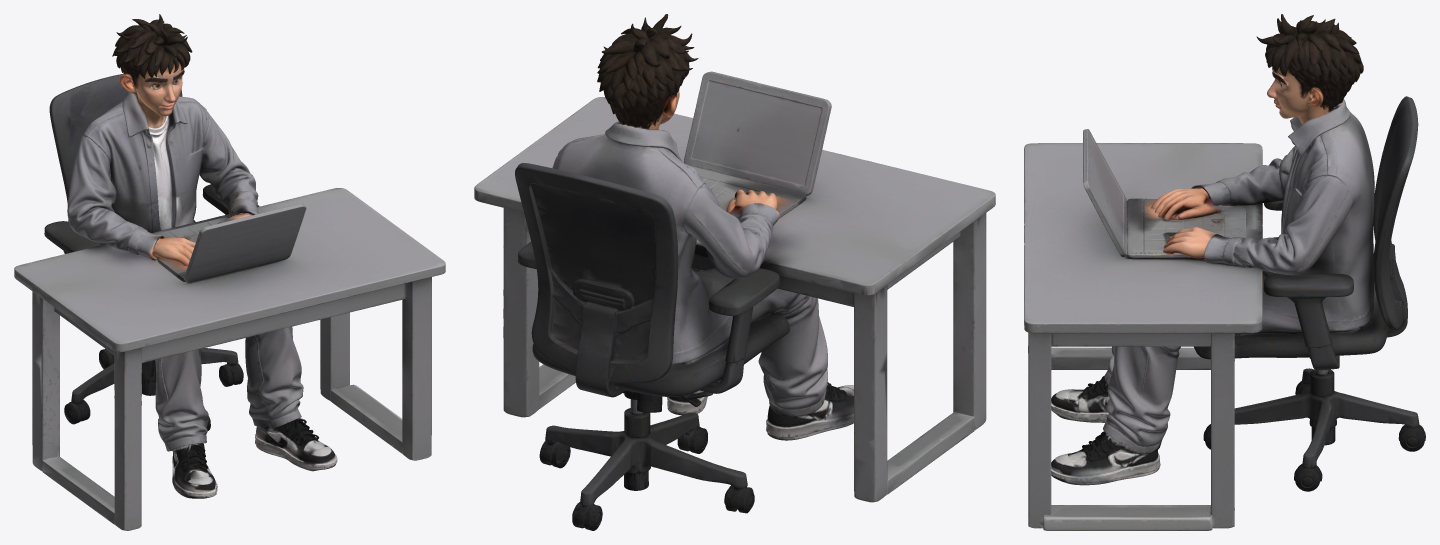
File: office-avatar-v5.glb
3 renders of one model, left to right at view 1: azimuth 30°, elevation 25°; view 2: azimuth 150°, elevation 25°; view 3: azimuth 270°, elevation 25°, orthographic. The views are drawn at different scales.
Parts seen in each view (by area): view 1: node_0; view 2: node_0; view 3: node_0.
Boxes of the visible parts, x1=… form: node_0: x1=14, y1=14, x2=445, y2=530; node_0: x1=474, y1=14, x2=995, y2=530; node_0: x1=1024, y1=14, x2=1425, y2=530.
Bounding box in the file's own units: 0.7029 × 0.7787 × 0.66.
Materials: 1 (1 with a texture image).
